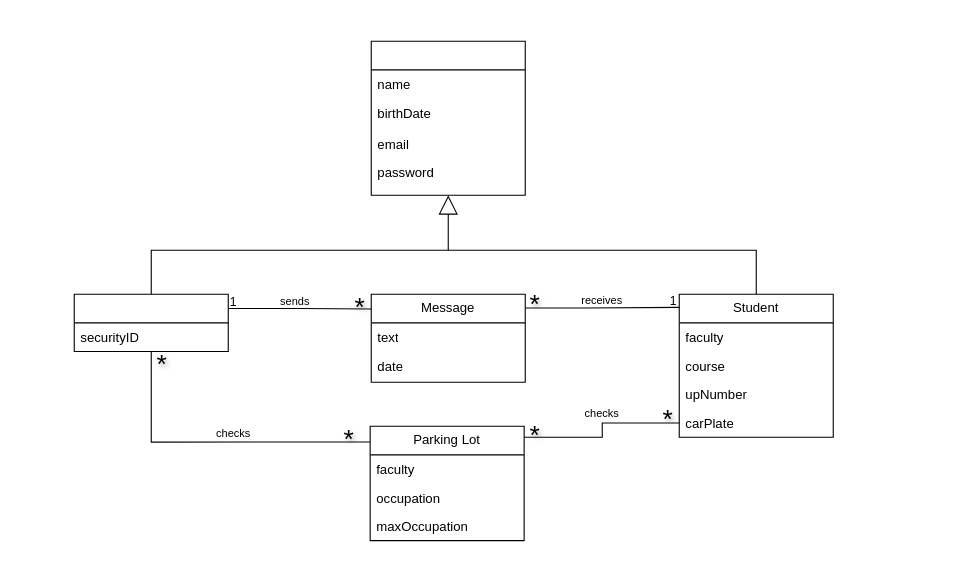
Image size: 972x576. Some labels were removed from this diagram. The shapes that lost their labels are listed below. From the top down, each one's box as (x1, y1, x2, y2) in pixels, then its label:
(370, 40, 525, 195): User
(73, 293, 228, 351): Security officer
